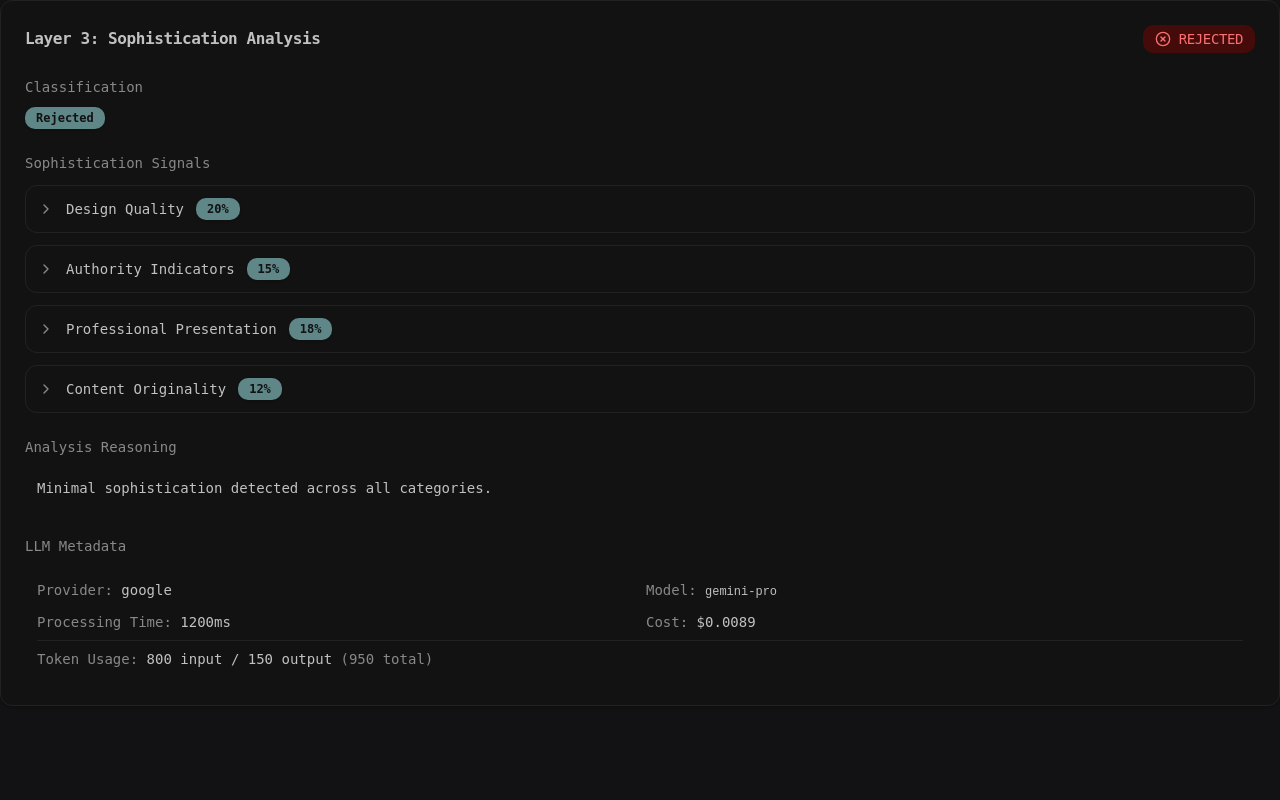
Scenario: Layer3Factors Display Component › Sophistication Signals Display › should handle empty signal lists
# Expand a section
Click the button "Design Quality 20%".
click(125, 209)  # box [26,186,1254,232]
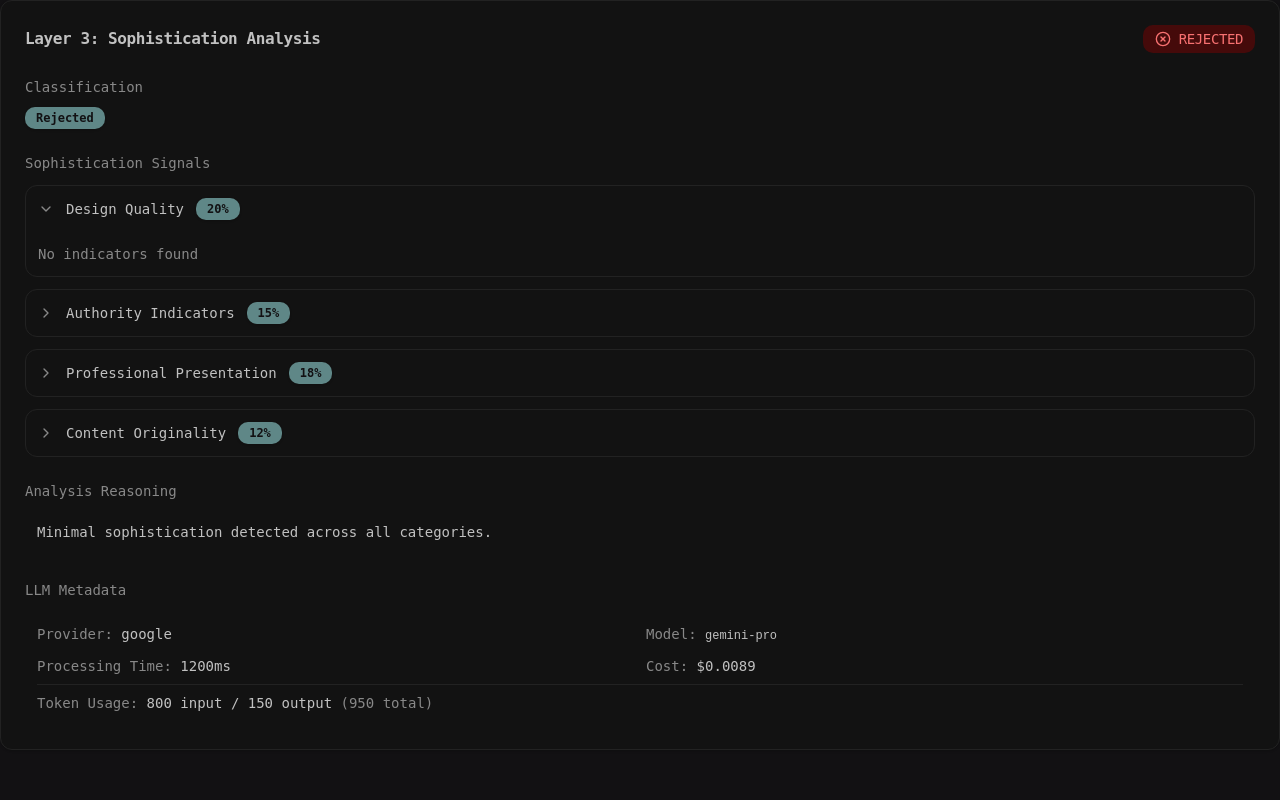
Now the text "No indicators found" is shown, box [38,246,198,262]
